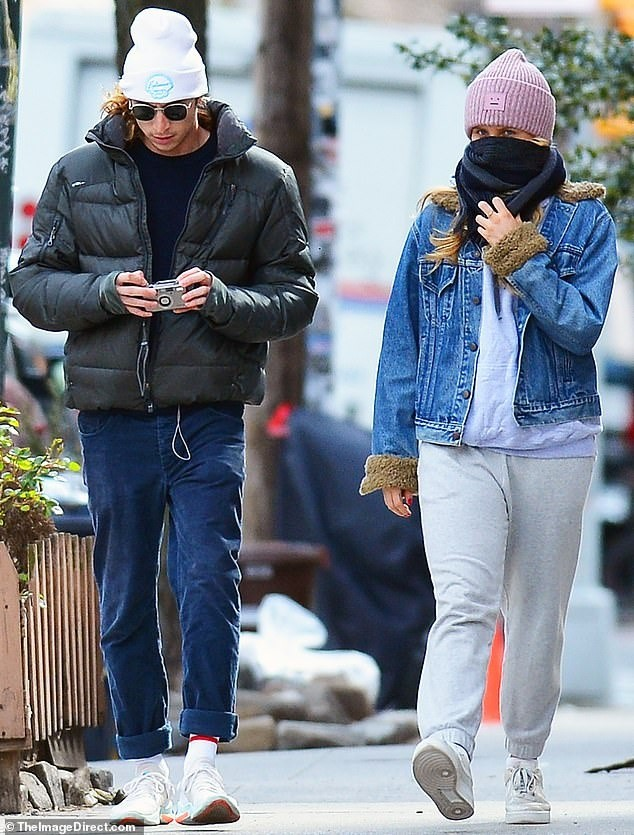face_no_mask: (125, 66, 200, 155)
face_with_mask: (464, 99, 545, 190)
